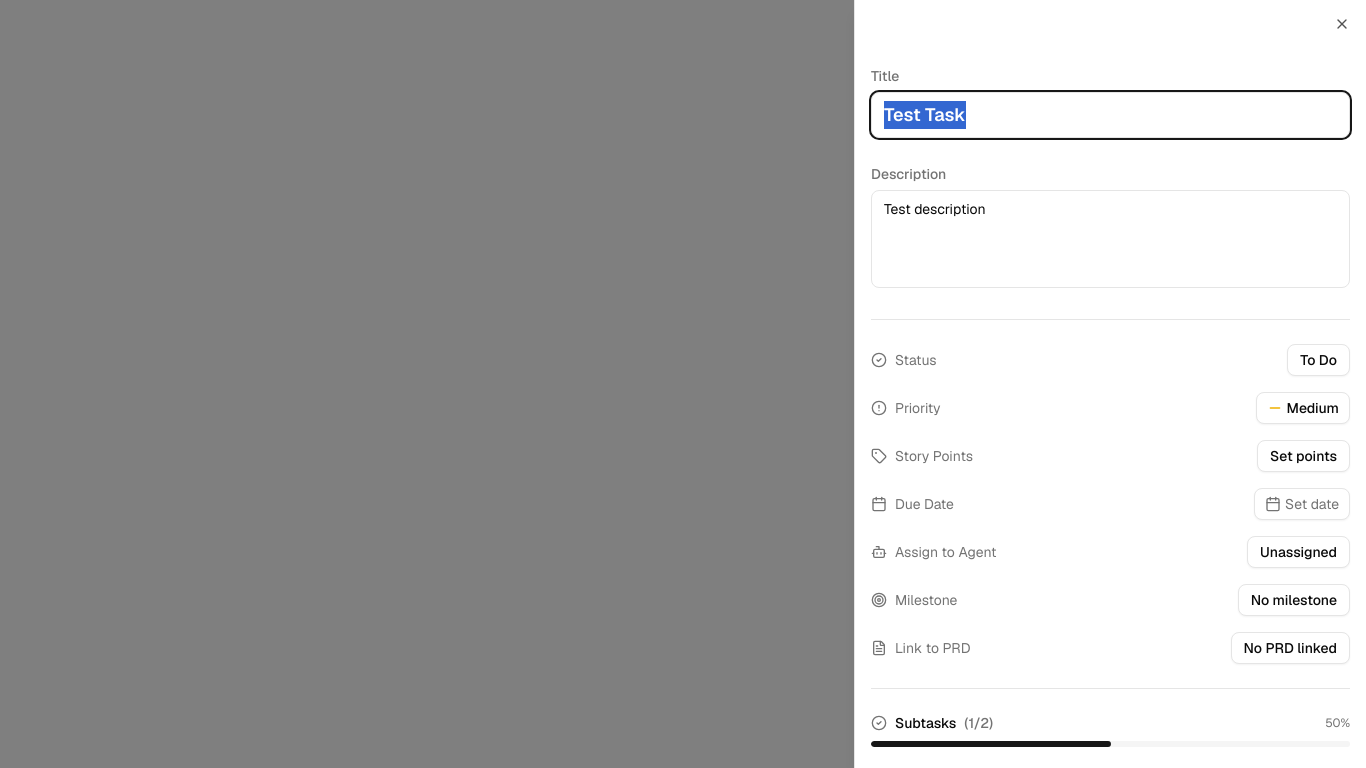
Test case: 2.5 Task Detail Panel › 2.5.8 Story points selector works › Shows Fibonacci sequence options
Click the button with aria-label "Story points" at (1304, 456), box [1257,440,1350,472]
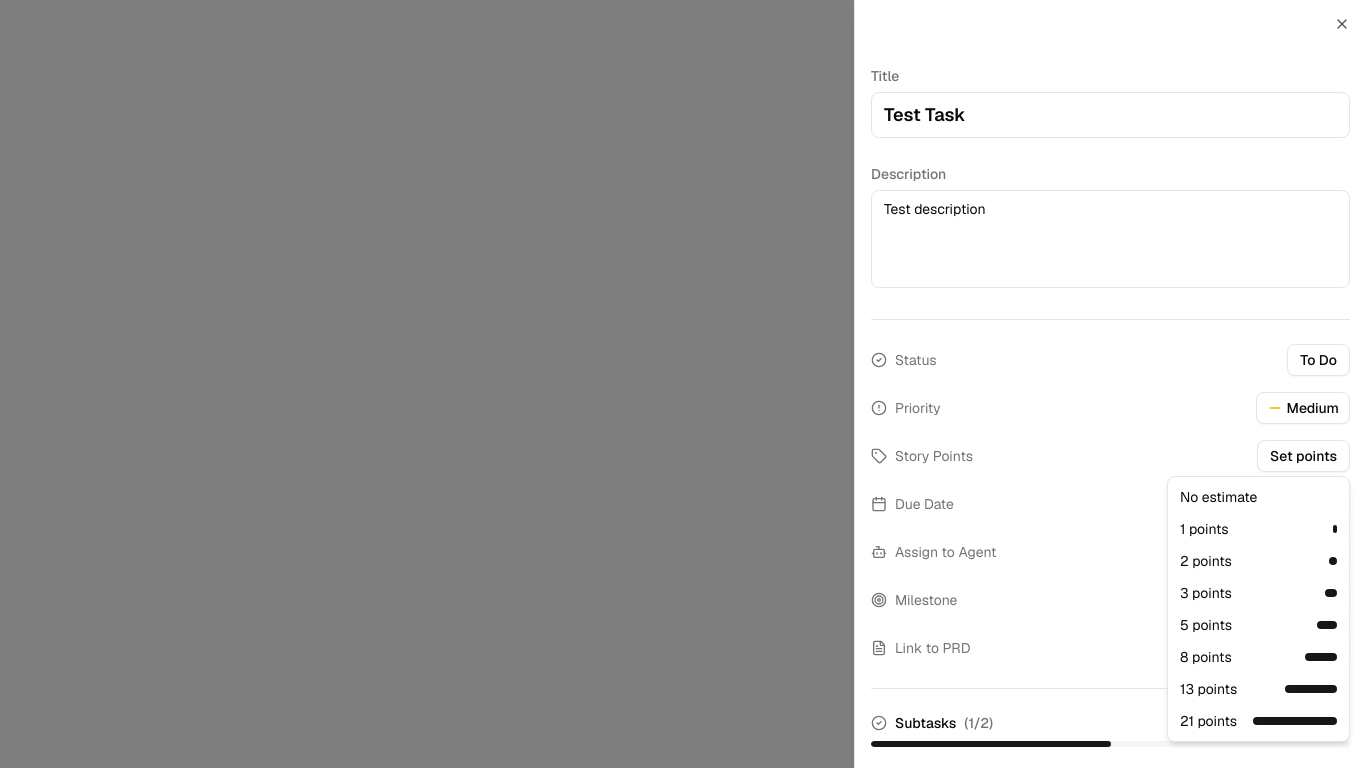
expect the text "1 points" is shown: met, box [1180,519,1229,539]
expect the text "2 points" is shown: met, box [1180,551,1232,571]
expect the text "3 points" is shown: met, box [1180,583,1232,603]
